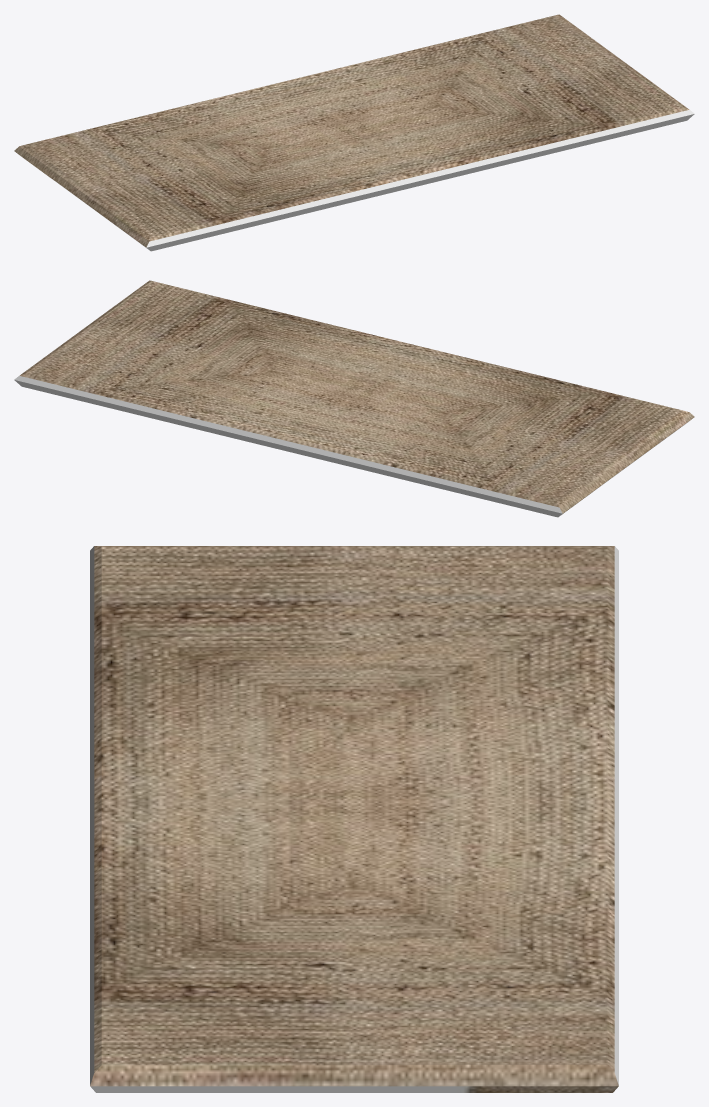
File: adulte_carpet2.fbx
3 views of the same model, one above another, from view 1: azimuth 30°, elevation 25°; view 2: azimuth 150°, elevation 25°; view 3: azimuth 270°, elevation 25° (orthographic). The views are drawn at different scales.
Visible parts, largest first — view 1: Carpet B; view 2: Carpet B; view 3: Carpet B.
Part boxes in pixels (x1,y1,x2,y2): Carpet B: [14, 14, 694, 251]; Carpet B: [14, 280, 694, 517]; Carpet B: [90, 546, 618, 1092].
Size of the model in its own units: 351 by 7.83 by 146.
Materials: 1 (1 with a texture image).
